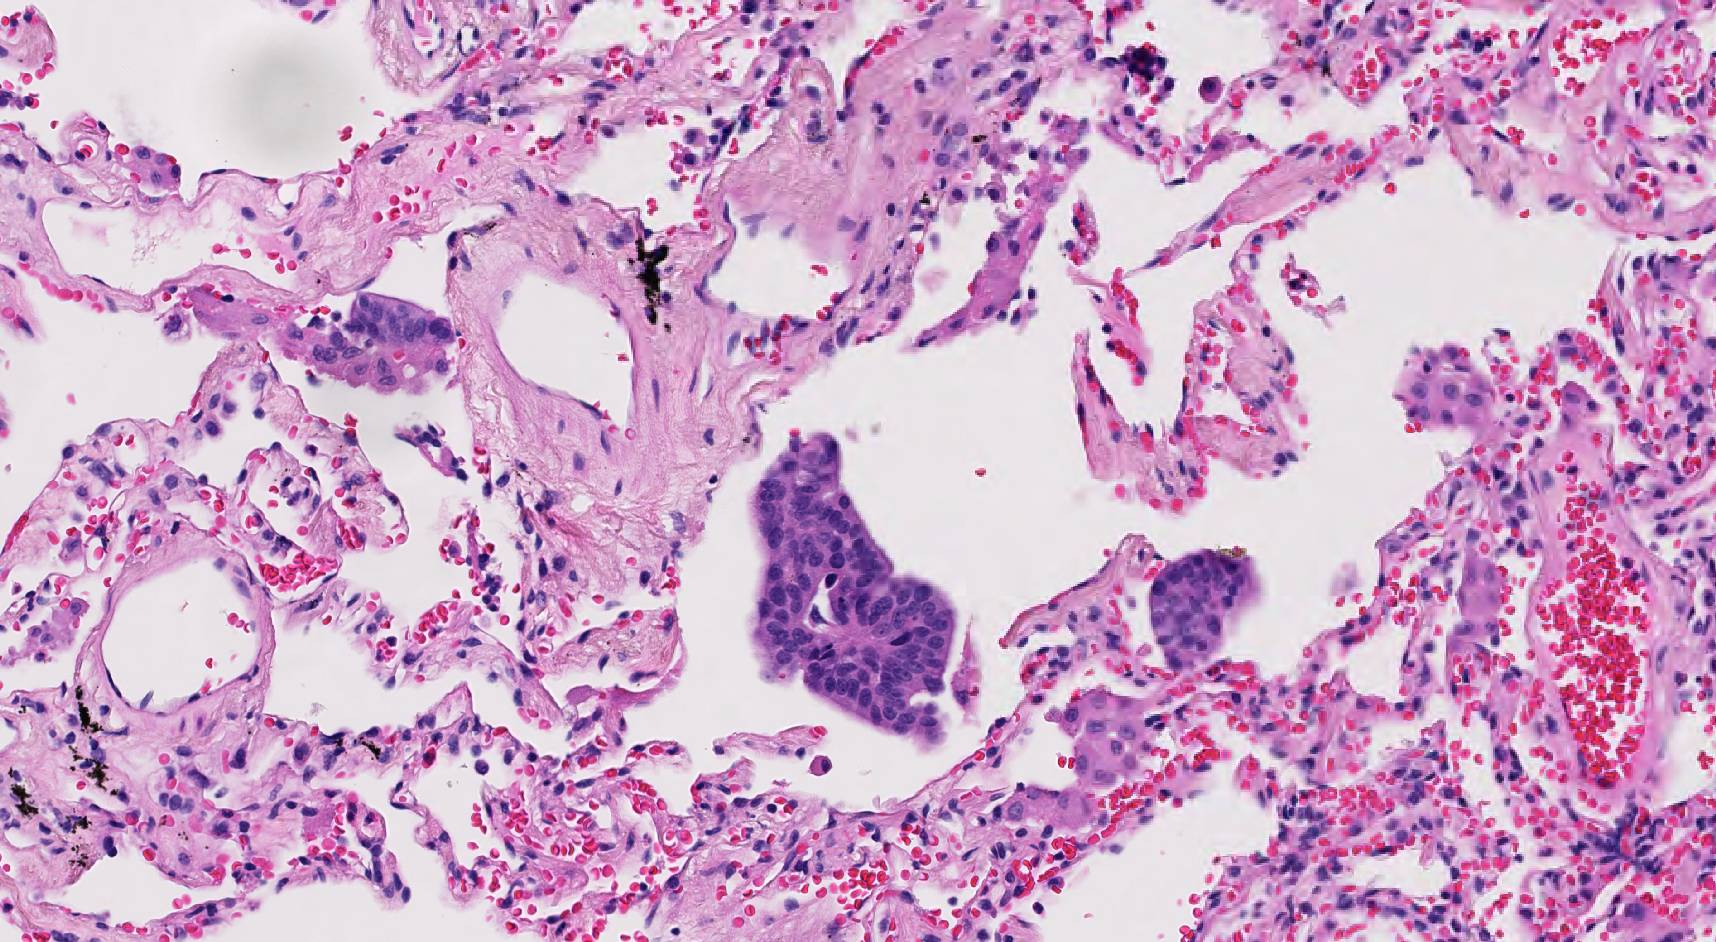stas: (742, 427, 958, 749), (308, 288, 454, 395), (1144, 543, 1263, 674)
